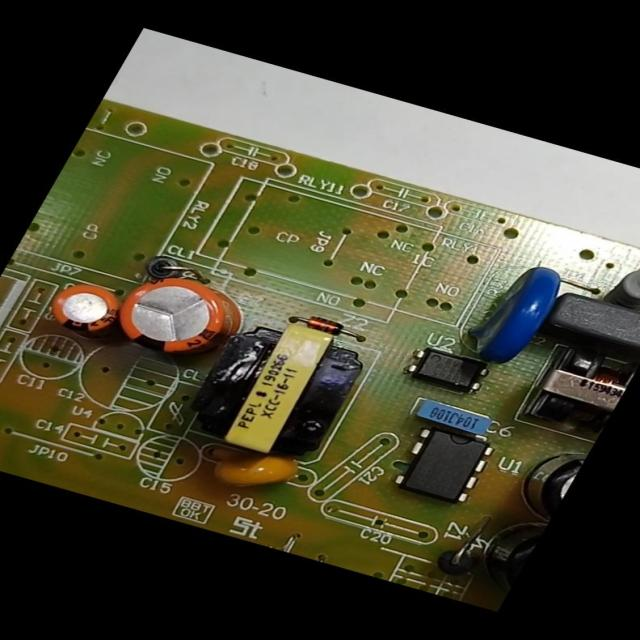Cap1: (103, 266, 240, 361)
Cap2: (45, 280, 123, 336)
Cap3: (507, 444, 586, 520)
Cap4: (464, 516, 545, 596)
MOSFET: (390, 424, 490, 502)
Mov: (462, 259, 567, 362)
Resistor: (605, 258, 639, 312)
Transformer: (182, 312, 372, 464), (524, 345, 638, 435)
